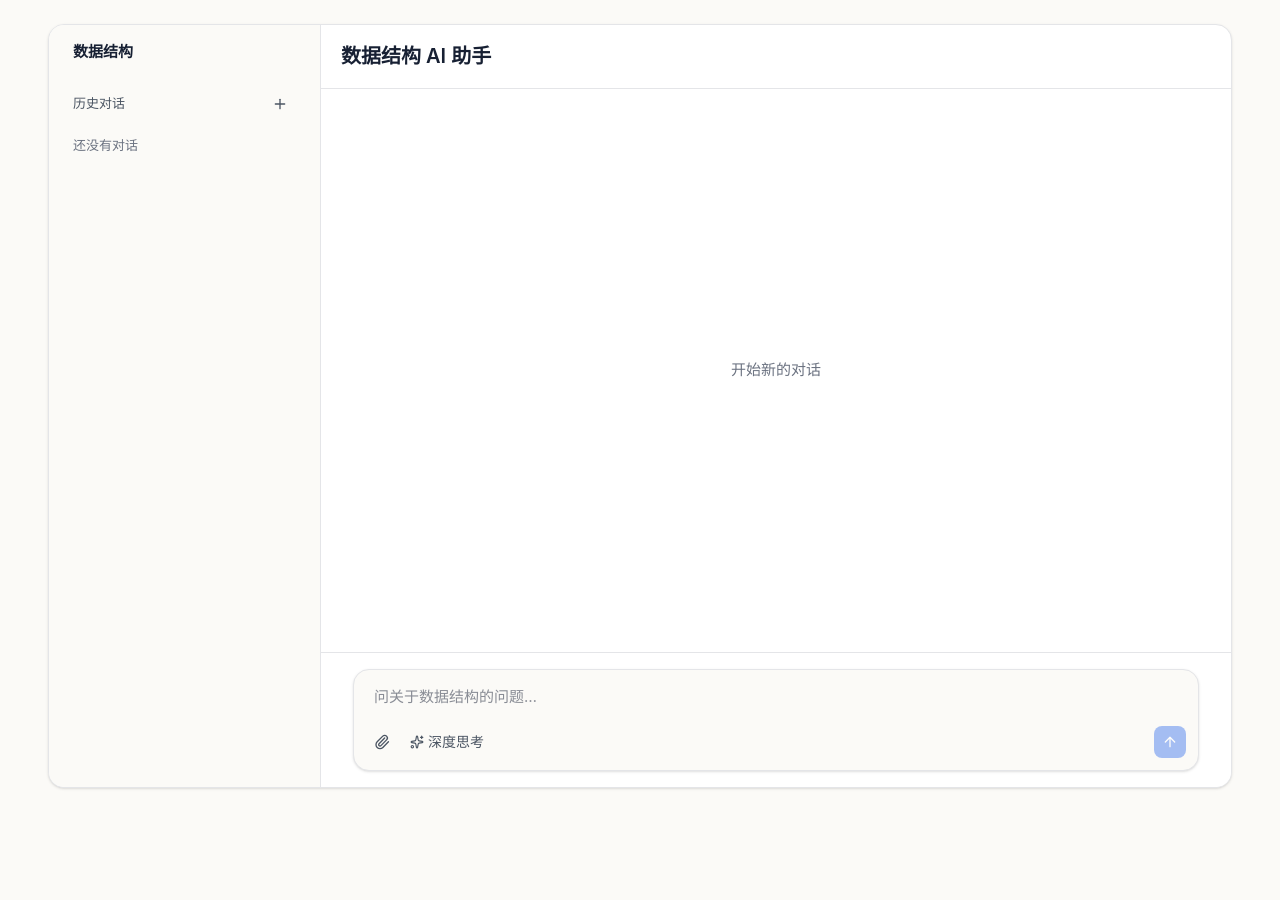
Test: streaming answers › aborts the request when Stop is pressed and re-enables the composer
The image size is (1280, 900).
Type "解释链表" into the text box named "你的问题" at (776, 702), box [362,678,1190,726]
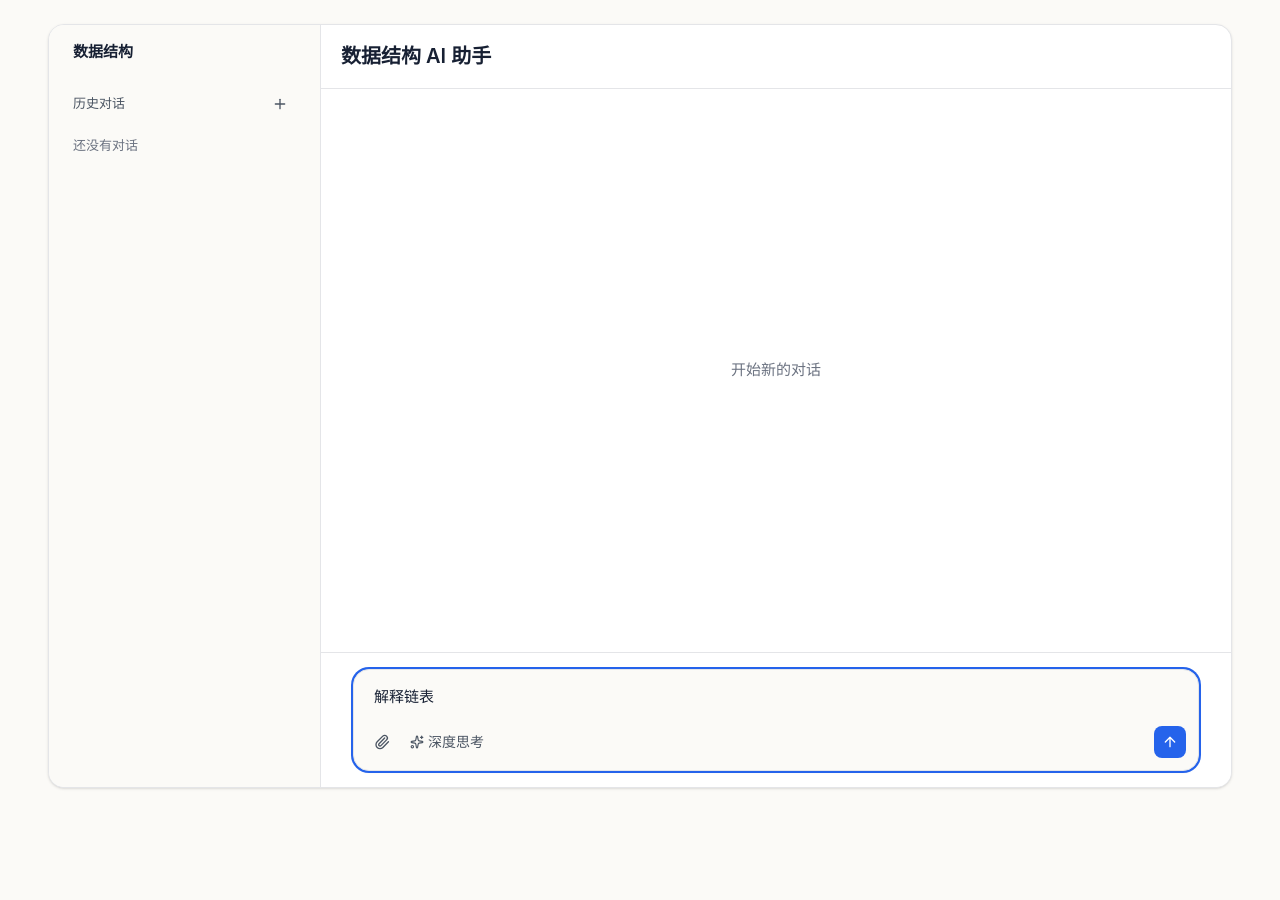
Click the button named "发送" at (1170, 742), box [1154,726,1186,758]
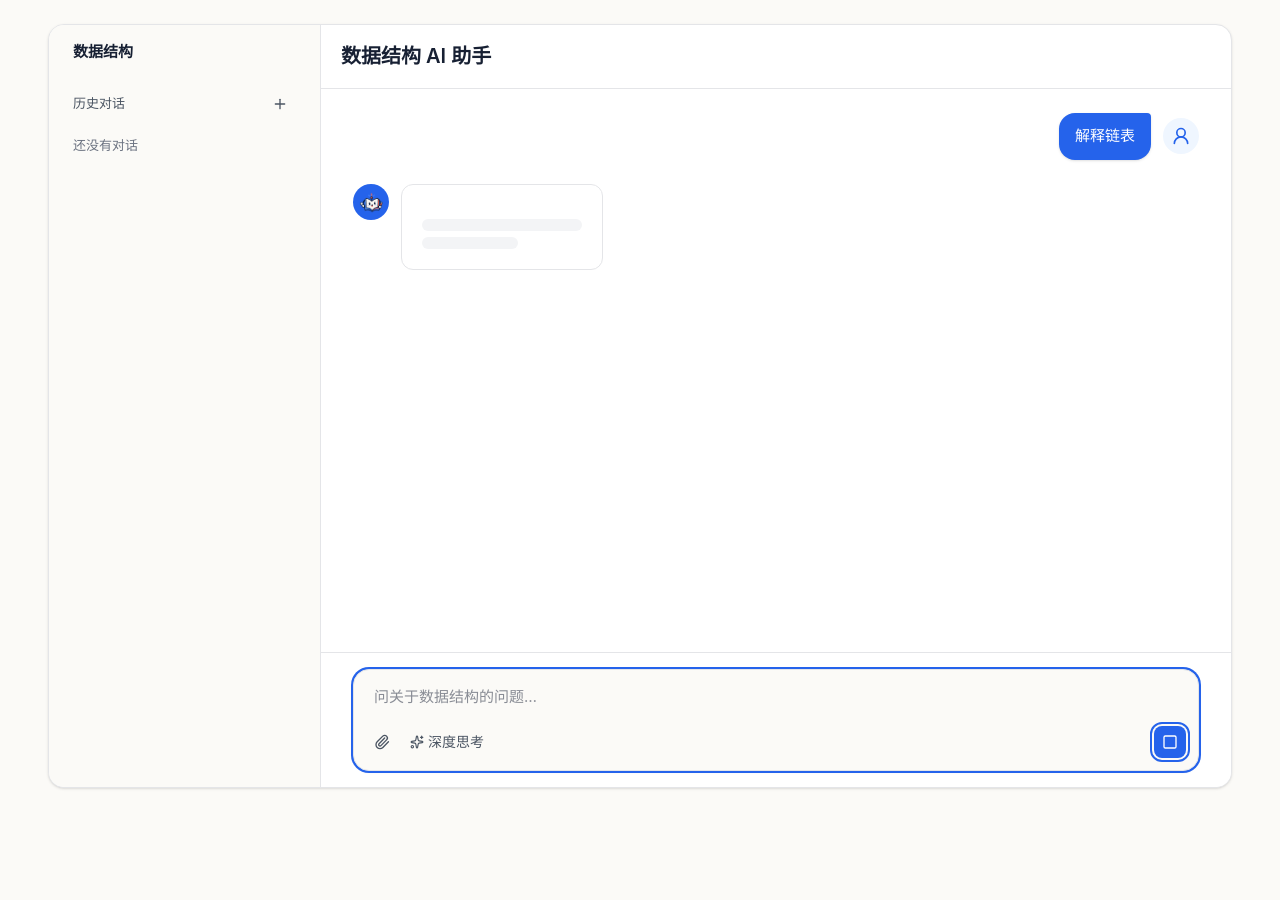
Click the button named "停止生成" at (1170, 742), box [1154,726,1186,758]
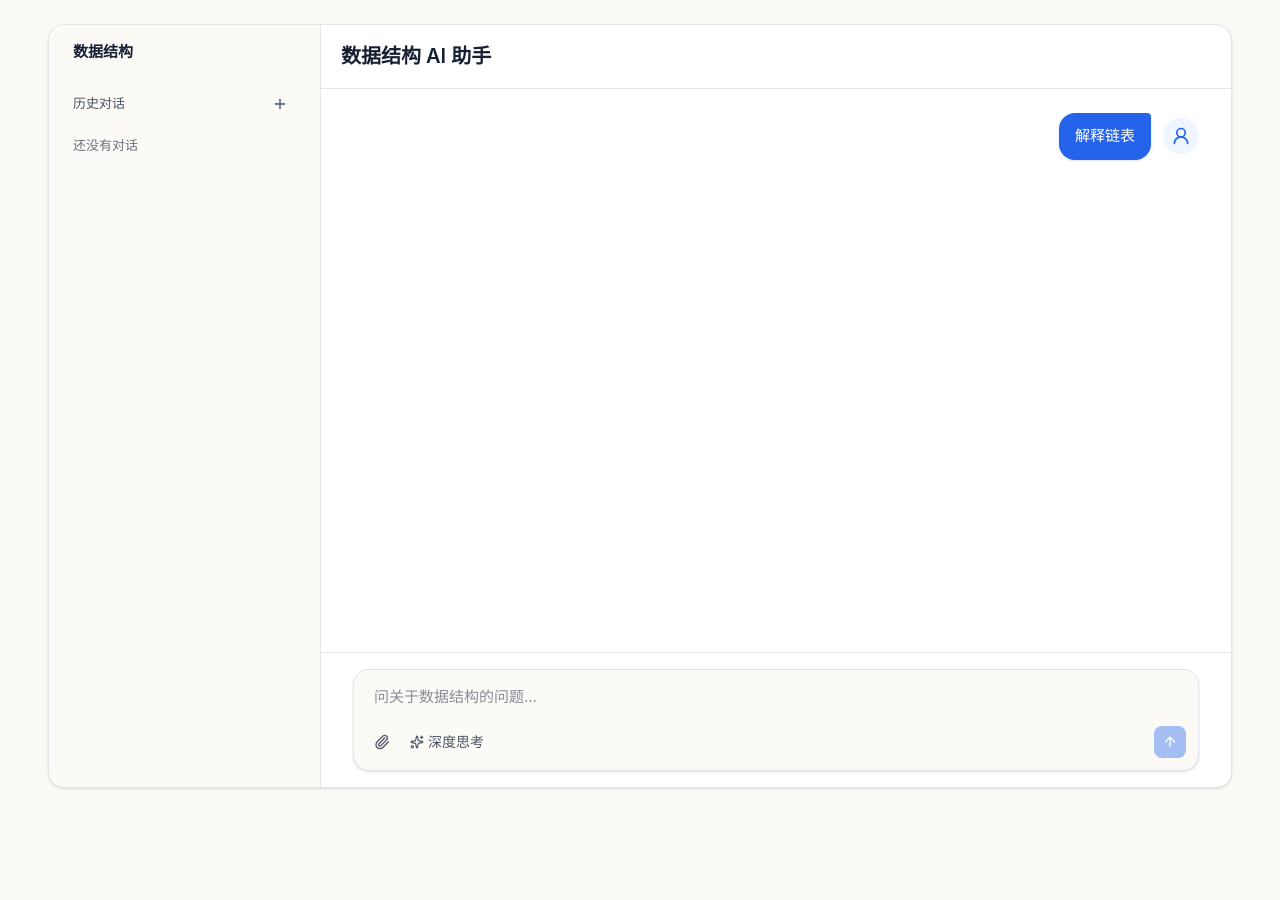
Result: the button named "发送" is disabled at [1154,726,1186,758]
Type "下一个问题" into the text box named "你的问题" at (776, 702), box [362,678,1190,726]
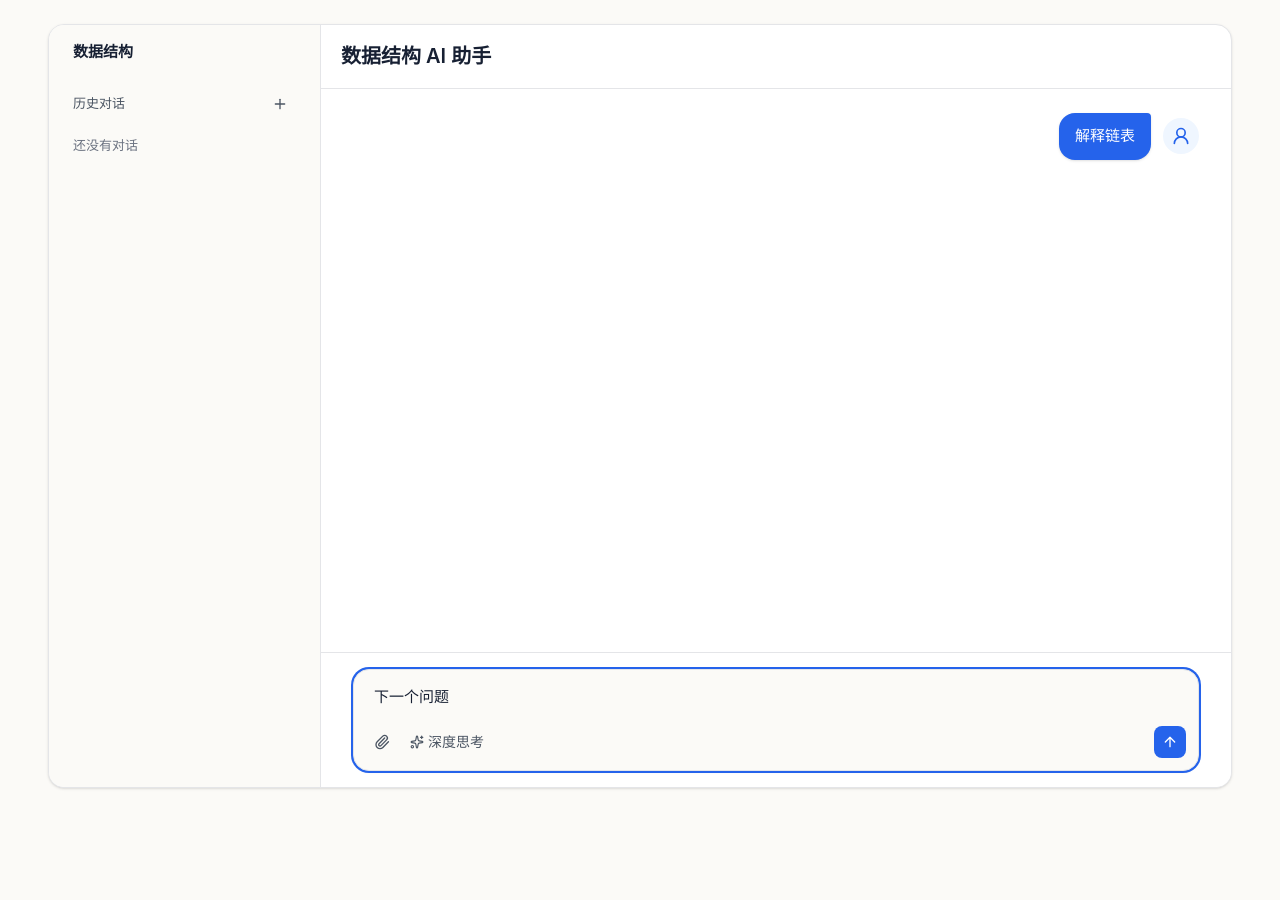
Result: the button named "发送" is enabled at [1154,726,1186,758]
